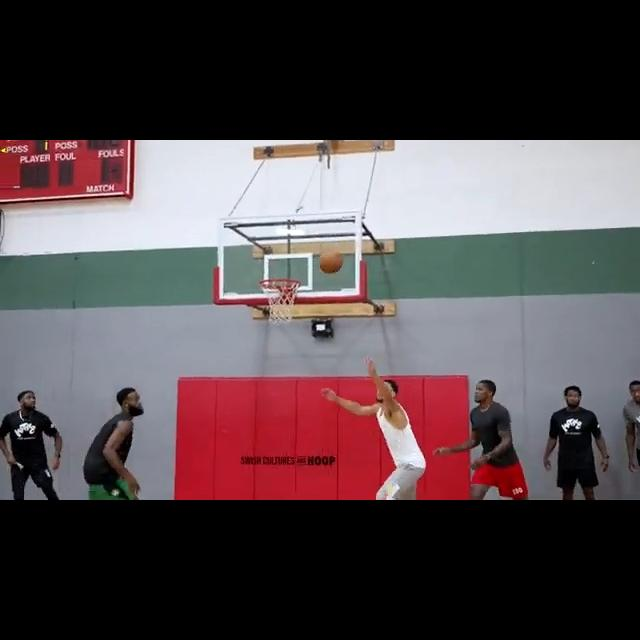basketball: (317, 249, 345, 275)
hoop: (258, 279, 302, 325)
person: (319, 357, 435, 500), (434, 379, 536, 500), (544, 384, 612, 500), (82, 381, 146, 500), (1, 388, 64, 500), (625, 381, 640, 500)
